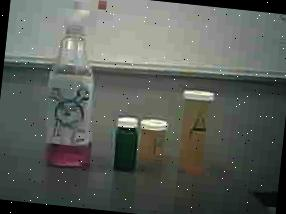Bottle A: (172, 90, 217, 176)
Bottle B: (139, 118, 173, 166)
Bottle C: (108, 113, 142, 173)
hazard: (40, 0, 116, 171)
